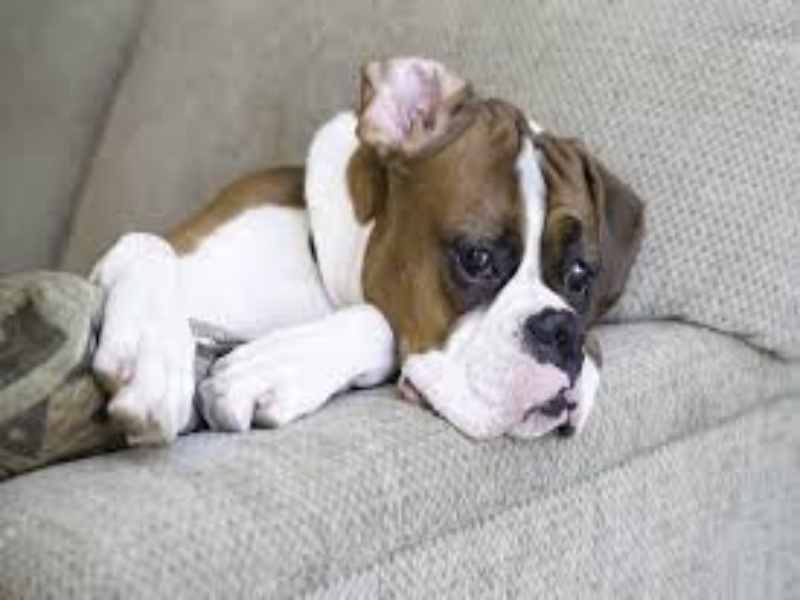dog: (18, 53, 651, 467)
